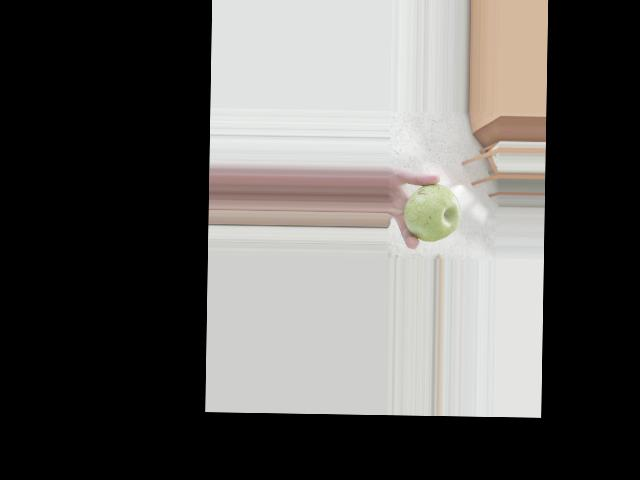apple: (402, 183, 462, 244)
